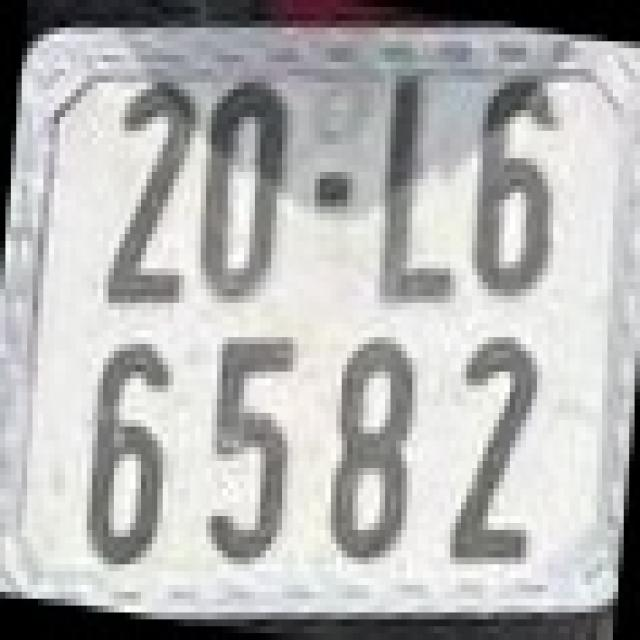0: (198, 75, 290, 302)
2: (445, 327, 542, 568), (98, 79, 195, 306)
5: (206, 327, 298, 561)
6: (472, 69, 564, 296), (82, 338, 174, 564)
8: (326, 327, 418, 561)
L: (372, 62, 464, 303)
